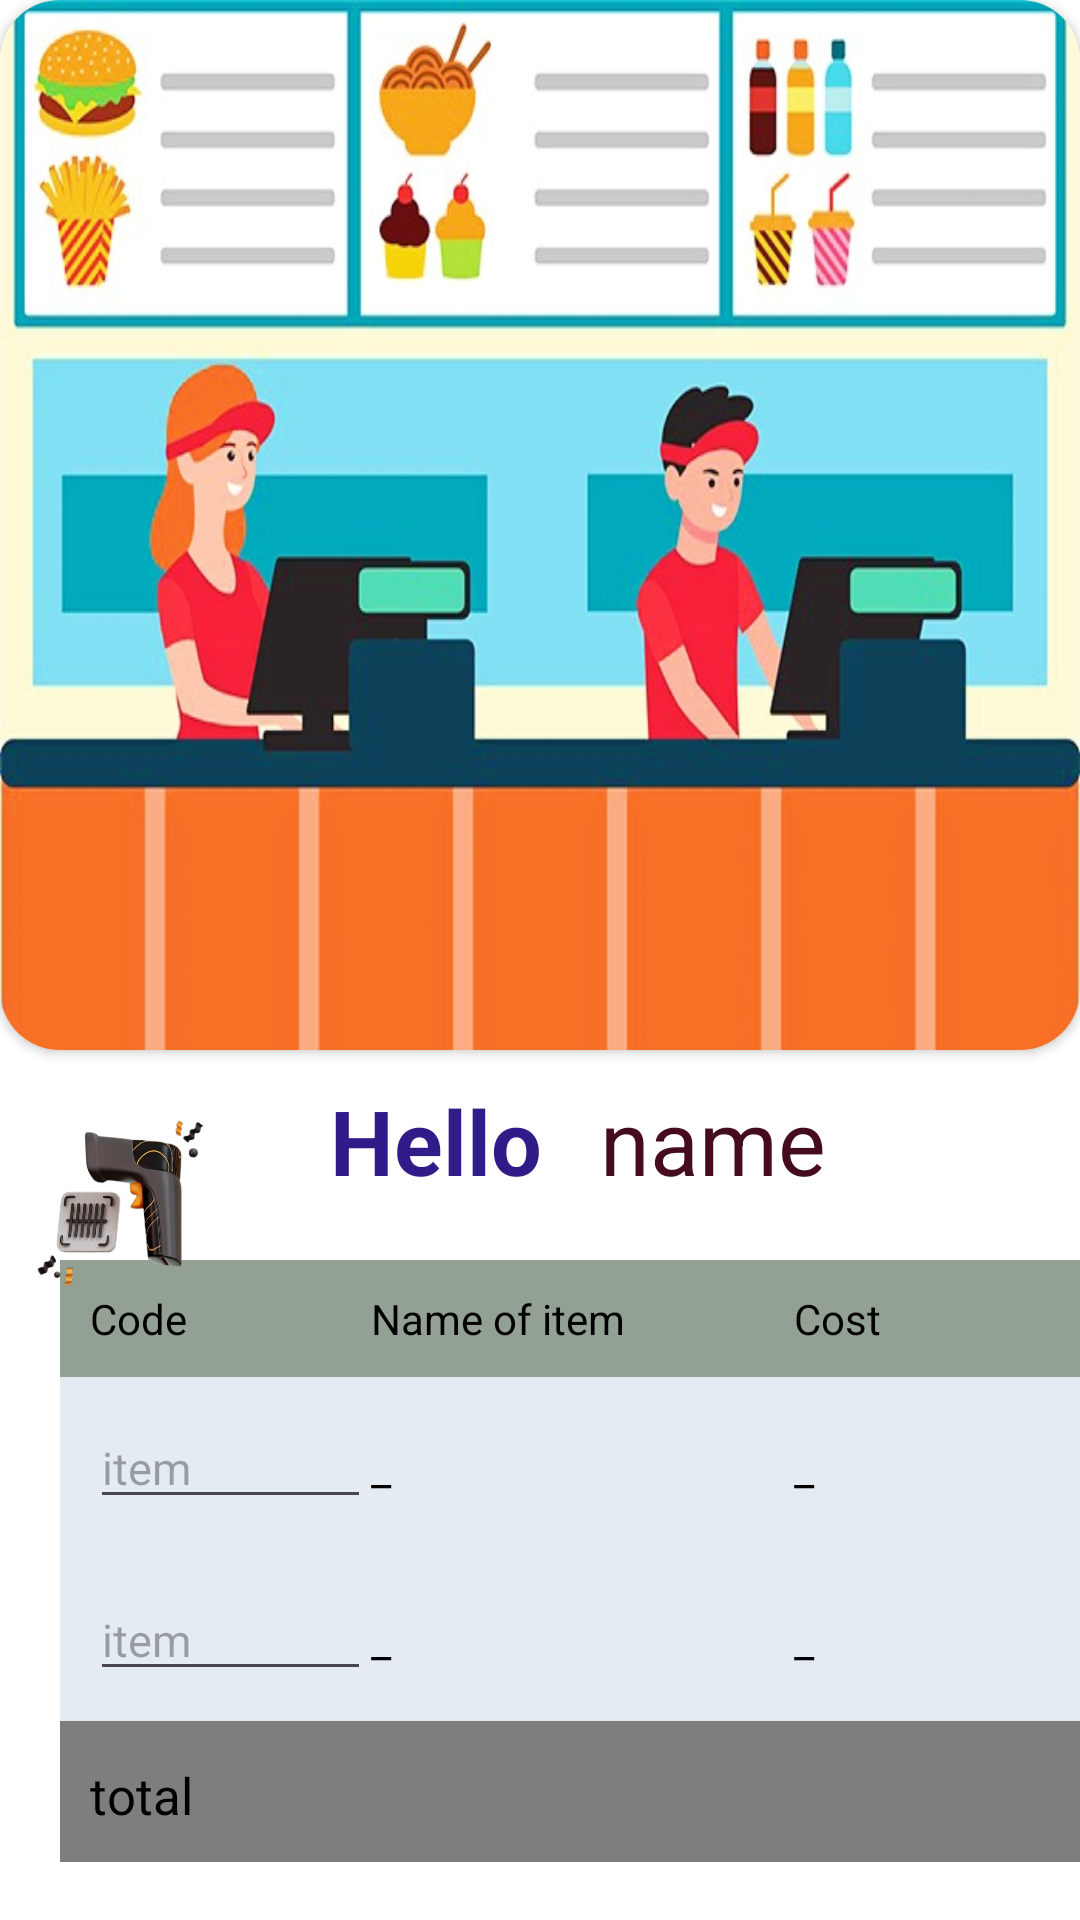

Icons on this 1080*1920 Android screen, each with the point to tap as point (x, y):
scanid: point (131, 1213)
